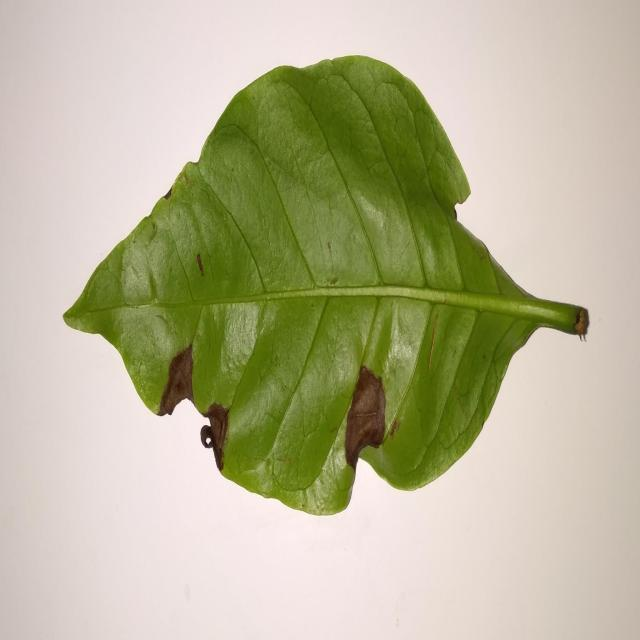Enfermedad-Antracnosis: (62, 56, 590, 519)
